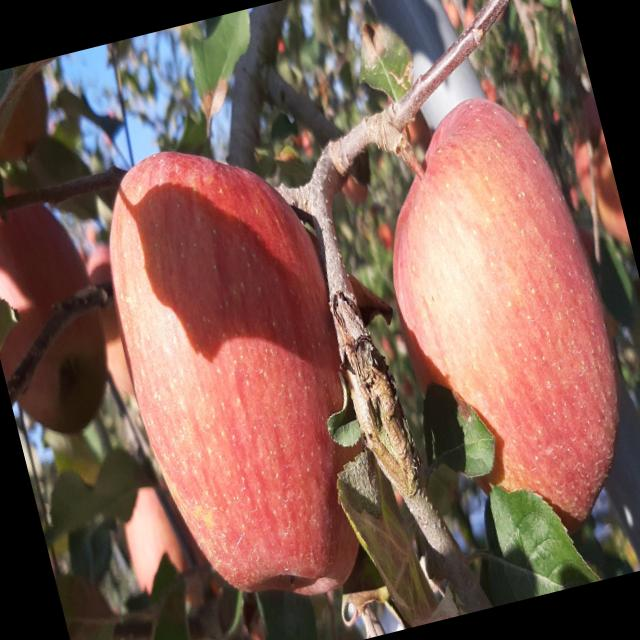fresh: (74, 117, 407, 640), (345, 65, 640, 573)
